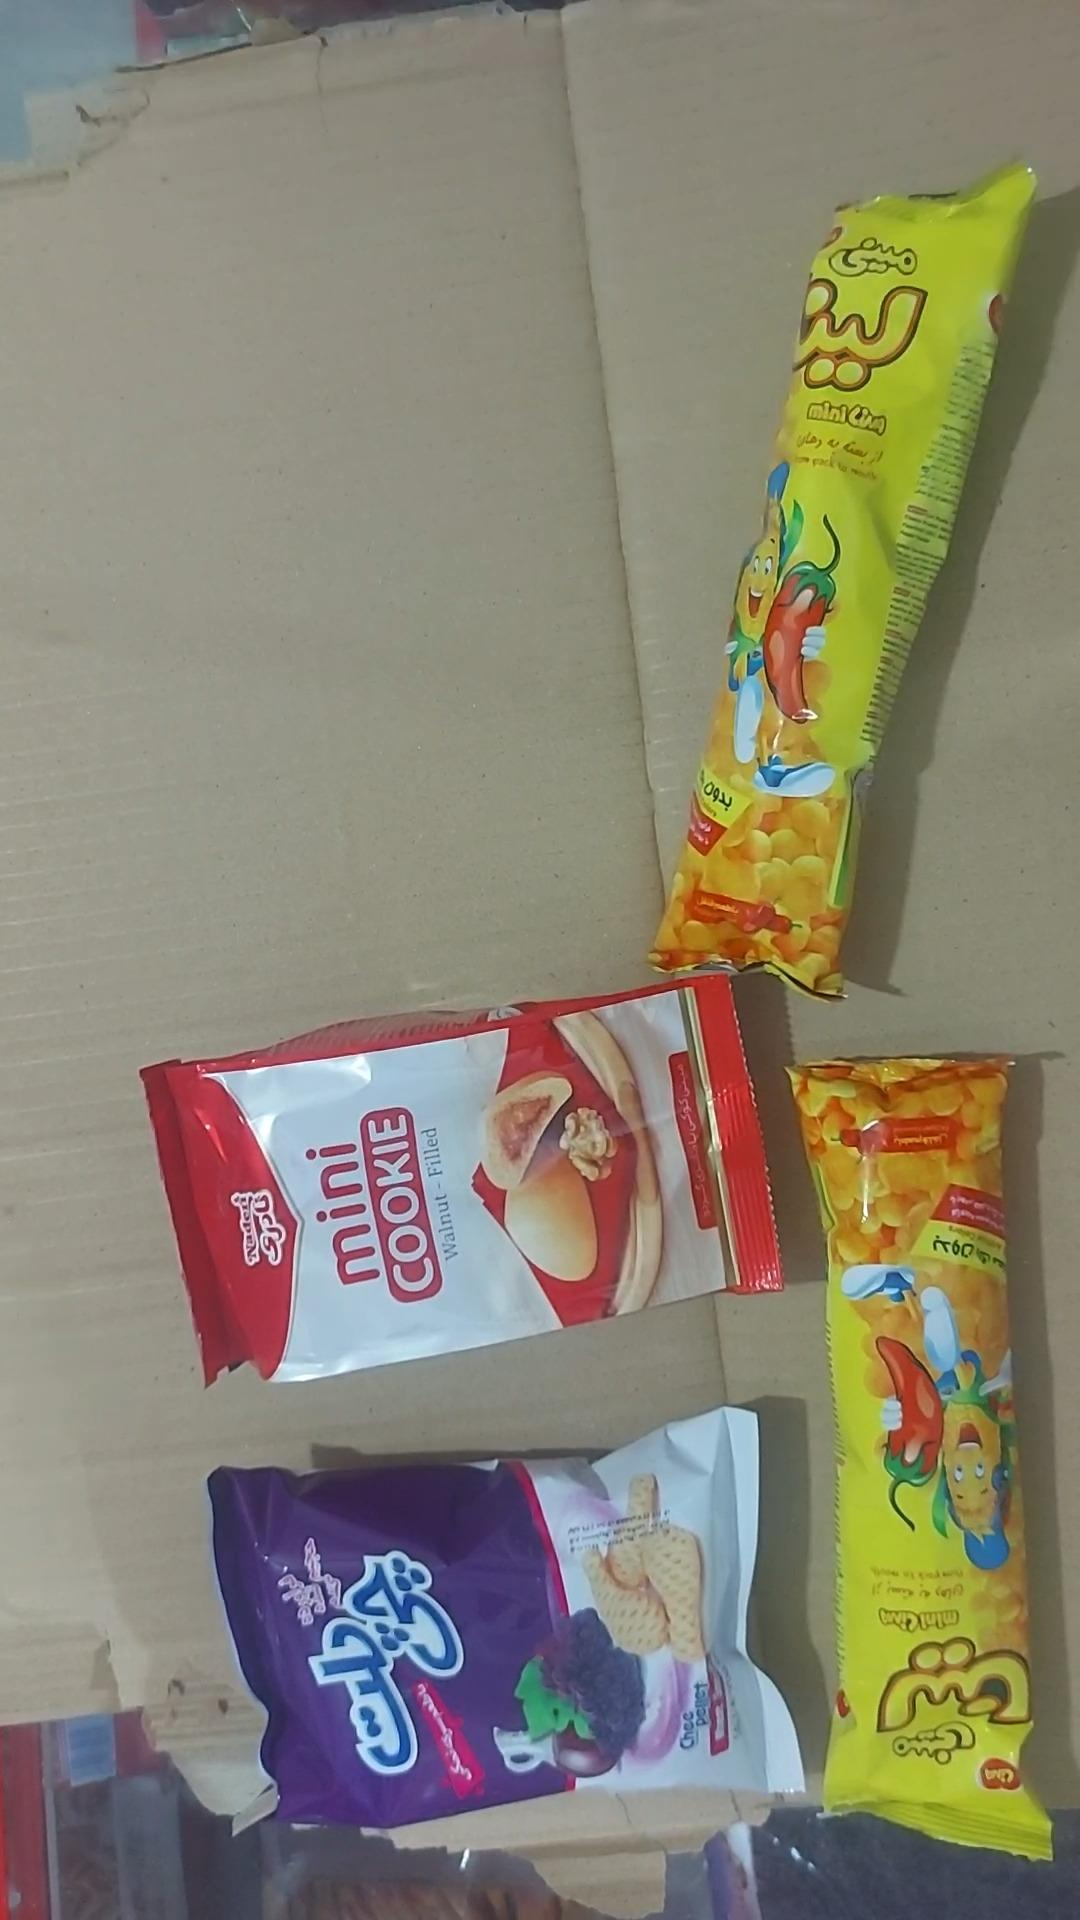Chee pellet vinegar: (206, 1408, 808, 1832)
Mini Lina: (649, 161, 1040, 1005), (785, 1056, 1054, 1867)
Naderi mini cookie: (138, 977, 789, 1389)
